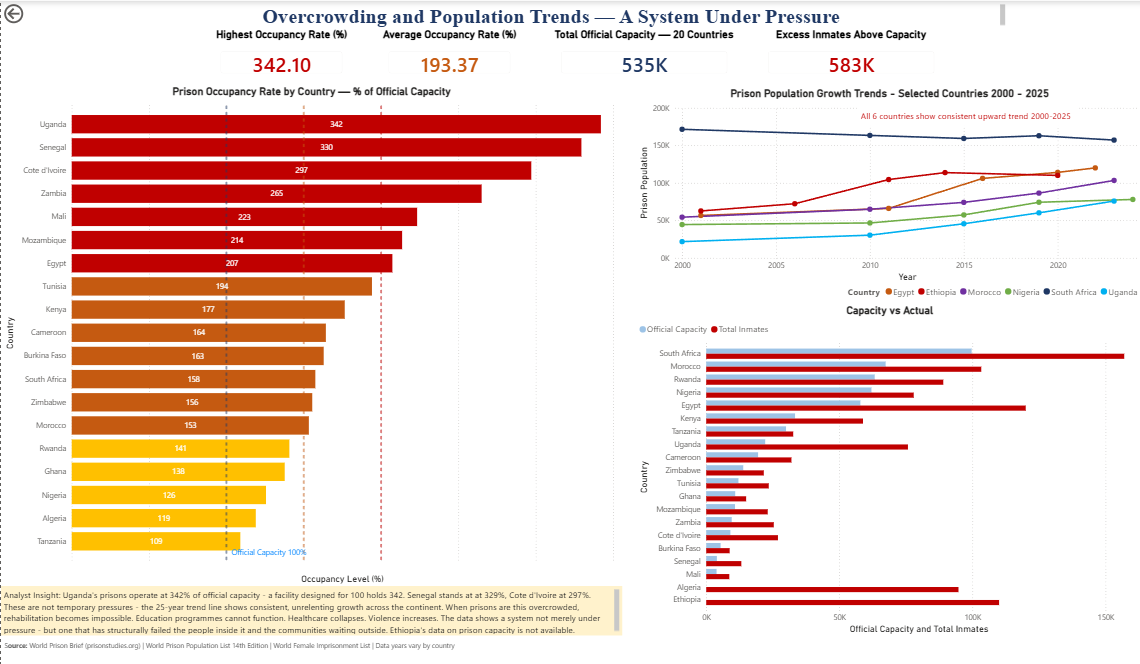

The dashboard page shown, as its layout file describes it:
{"tool":"powerbi","page":{"name":"Overcrowding and Trends","canvas":[1800,1050],"ordinal":3},"visuals":[{"type":"textbox","box":[152.9,0,1432.6,45],"z":0},{"type":"cardVisual","title":"Highest Occupancy Rate (%)","fields":{"Data":["Max(Main Analysis Table.Occupancy Level (%))"]},"box":[327.9,42.8,226.7,89.1],"z":1000},{"type":"cardVisual","title":"Average Occupancy Rate (%)","fields":{"Data":["Data Availability Matrix.Avg Occupancy Rate"]},"box":[591.8,42.8,226.7,89.1],"z":2000},{"type":"cardVisual","title":"Total Official Capacity — 20 Countries","fields":{"Data":["Sum(Main Analysis Table.Official Capacity)"]},"box":[863.8,42.8,296.3,89.1],"z":3000},{"type":"cardVisual","title":"Excess Inmates Above Capacity","fields":{"Data":["Data Availability Matrix.Capacity Gap"]},"box":[1189.3,42.8,296.3,89.1],"z":4000},{"type":"clusteredBarChart","title":"Prison Occupancy Rate by Country — % of Official Capacity","fields":{"Y":["Sum(Main Analysis Table.Occupancy Level (%))"],"Category":["Main Analysis Table.Country"]},"box":[0,132.7,978.3,789.4],"z":5000},{"type":"actionButton","box":[0,0,100,40],"z":6000},{"type":"lineChart","title":"Prison Population Growth Trends - Selected Countries 2000 - 2025","fields":{"Category":["Trend Data.Year"],"Y":["Sum(Trend Data.Prison Population)"],"Series":["Trend Data.Country"]},"box":[998.5,134.9,800.6,341.8],"z":7000},{"type":"textbox","box":[1349.4,164.2,348.6,31.5],"z":8000},{"type":"clusteredBarChart","title":"Capacity vs Actual","fields":{"Category":["Main Analysis Table.Country"],"Y":["Sum(Main Analysis Table.Official Capacity)","Sum(Main Analysis Table.Total Inmates)"]},"box":[998.5,476.8,800.6,524],"z":9000},{"type":"textbox","box":[0,922.1,978.3,78.7],"z":10000},{"type":"textbox","box":[0,998.9,1015.4,52],"z":10001}]}

Visuals, with their boxes on the page's 1800x1050 design canvas (x1, y1, x2, y2). These are canvas units, not pixel positions in the 1140x664 screenshot, which may show the page scaled, cropped or inside an application window:
textbox: x1=153, y1=0, x2=1586, y2=45
"Highest Occupancy Rate (%)" cardVisual: x1=328, y1=43, x2=555, y2=132
"Average Occupancy Rate (%)" cardVisual: x1=592, y1=43, x2=818, y2=132
"Total Official Capacity — 20 Countries" cardVisual: x1=864, y1=43, x2=1160, y2=132
"Excess Inmates Above Capacity" cardVisual: x1=1189, y1=43, x2=1486, y2=132
"Prison Occupancy Rate by Country — % of Official Capacity" clusteredBarChart: x1=0, y1=133, x2=978, y2=922
actionButton: x1=0, y1=0, x2=100, y2=40
"Prison Population Growth Trends - Selected Countries 2000 - 2025" lineChart: x1=998, y1=135, x2=1799, y2=477
textbox: x1=1349, y1=164, x2=1698, y2=196
"Capacity vs Actual" clusteredBarChart: x1=998, y1=477, x2=1799, y2=1001
textbox: x1=0, y1=922, x2=978, y2=1001
textbox: x1=0, y1=999, x2=1015, y2=1051
